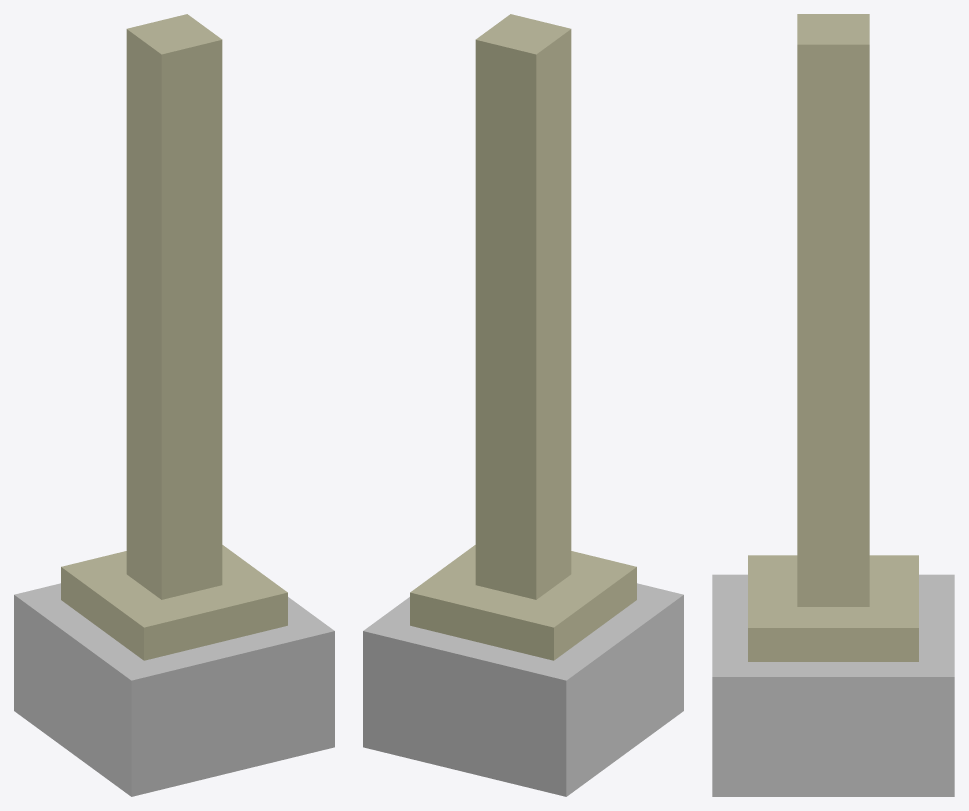
Rendered from CeillingFan.glb.
3 renders of one model, left to right at view 1: azimuth 30°, elevation 25°; view 2: azimuth 150°, elevation 25°; view 3: azimuth 270°, elevation 25°, orthographic. The views are drawn at different scales.
Visible parts, largest first — view 1: SO_CeilingFan; view 2: SO_CeilingFan; view 3: SO_CeilingFan.
Part boxes in pixels (x1=…): SO_CeilingFan: x1=14, y1=14, x2=334, y2=796; SO_CeilingFan: x1=363, y1=14, x2=683, y2=796; SO_CeilingFan: x1=712, y1=14, x2=954, y2=796.
Size of what is drawn, in the model's own units: 0.00332 by 0.0108 by 0.00332.
1 material, 1 textured.
